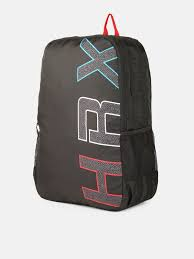backpack: (32, 13, 158, 211)
